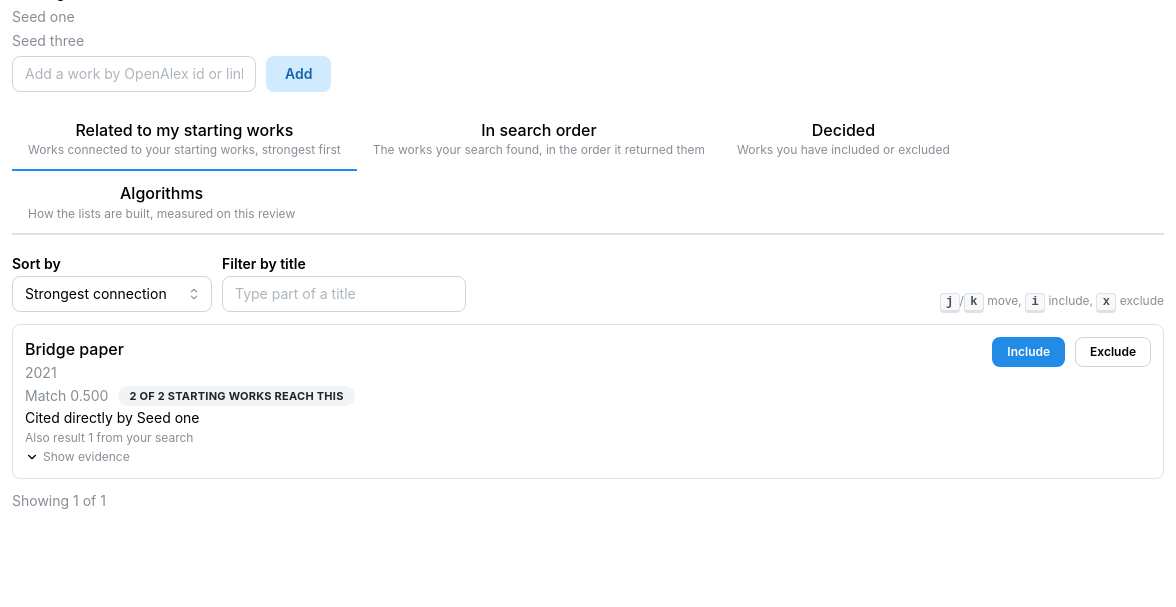
Scenario: ReviewScreen › shows the measurement loading per stage with role status and the re-rank banner
The width and height of the screenshot is (1176, 607).
Click the tab "Algorithms How the lists are built, measured on this review" at (162, 203), box [12, 171, 311, 235]
(page scrolled)
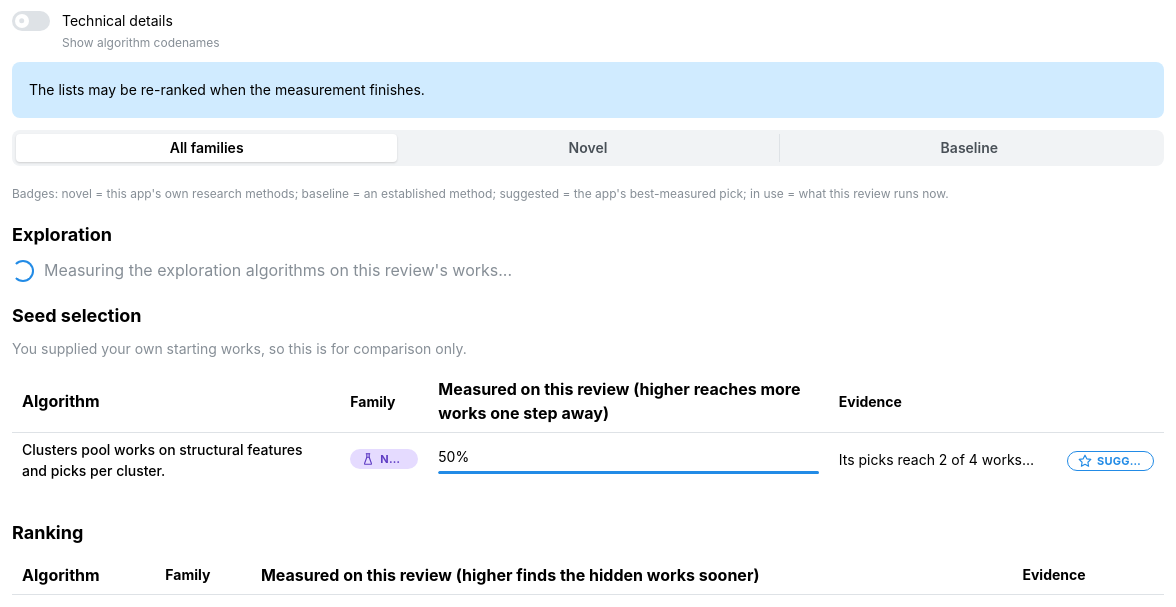
Expected: the message named "Measuring the exploration algorithms" is shown, [12, 260, 34, 282]
Expected: the text "Measuring the exploration algorithms" is shown, [44, 260, 512, 280]
Expected: the text "The lists may be re-ranked when the measurement finishes." is shown, [29, 81, 425, 98]
